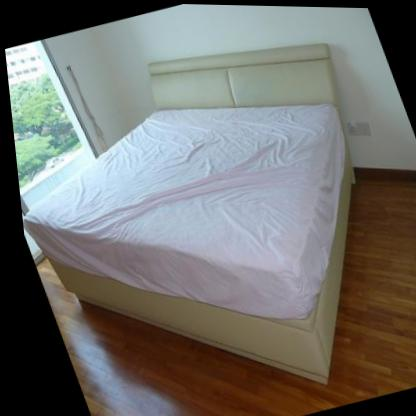Bed: (1, 11, 416, 416)
Window: (3, 39, 108, 255)
